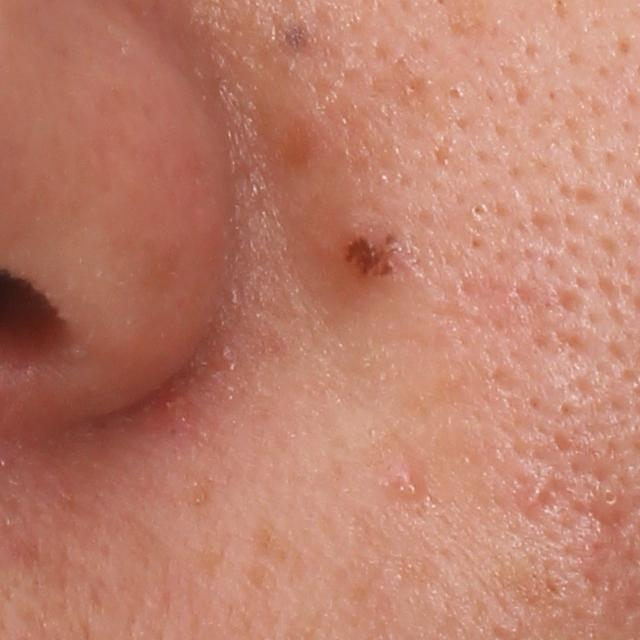comedo: (468, 197, 493, 224)
nevus: (332, 204, 415, 299)
papule: (390, 466, 425, 499)
